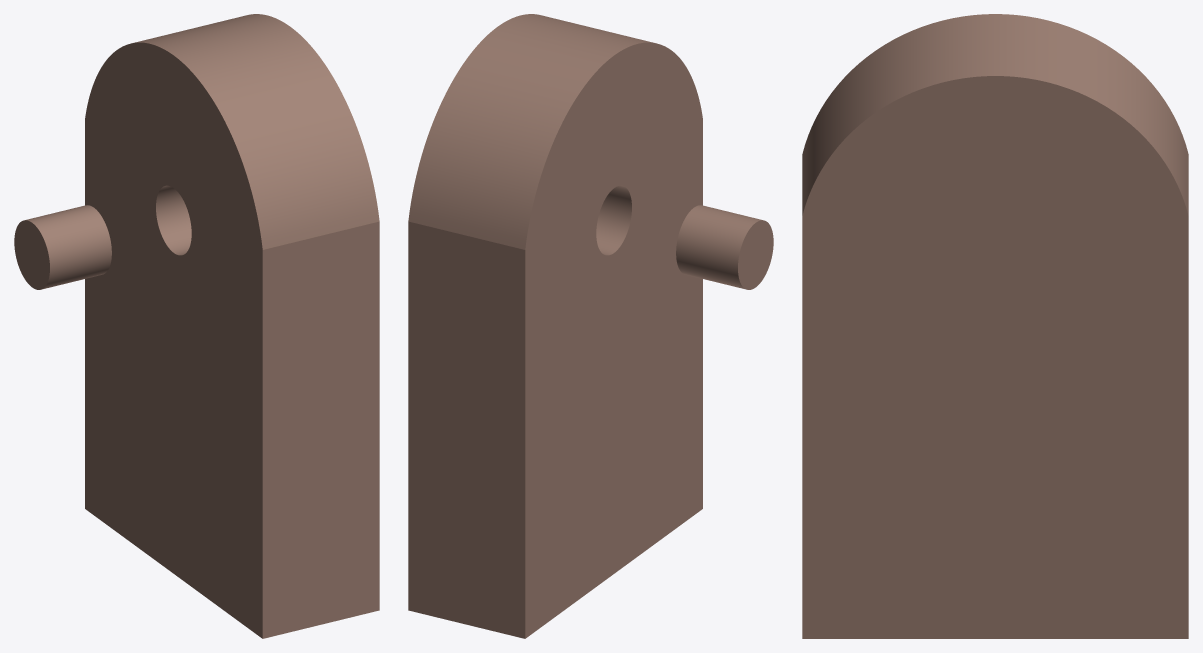
File: 水车控制器.fbx
3 views of the same model, side by side, from view 1: azimuth 30°, elevation 25°; view 2: azimuth 150°, elevation 25°; view 3: azimuth 270°, elevation 25° (orthographic). The views are drawn at different scales.
Parts seen in each view (by area): view 1: Group2, Group3; view 2: Group2, Group3; view 3: Group2.
Boxes of the visible parts, x1,y1,x2,y2 form: Group2: [85, 14, 379, 638]; Group3: [14, 205, 111, 289]; Group2: [408, 14, 702, 638]; Group3: [676, 205, 773, 289]; Group2: [802, 14, 1188, 638].
Bounding box in the file's own units: 83.61 × 160 × 99.64.
